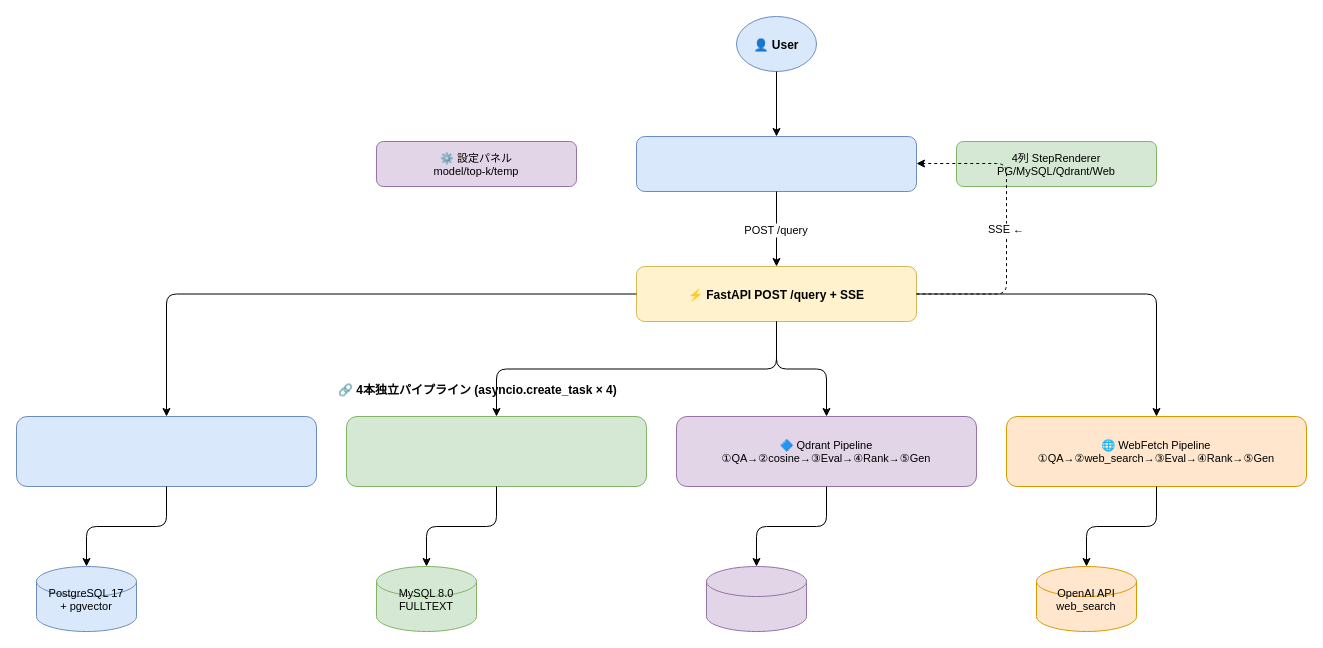
Image size: 1323x648. Some labels were removed from this diagram. Each missing label, with the box of its shape:
Qdrant vectors: (706, 566, 806, 632)
📦 PostgreSQL Pipeline ①QA→②pgvector→③Eval→④Rank→⑤Gen: (16, 416, 316, 486)
🖥️ Streamlit UI (app.py): (636, 136, 916, 192)
🗂️ MySQL Pipeline ①QA→②FULLTEXT→③Eval→④Rank→⑤Gen: (346, 416, 646, 486)
